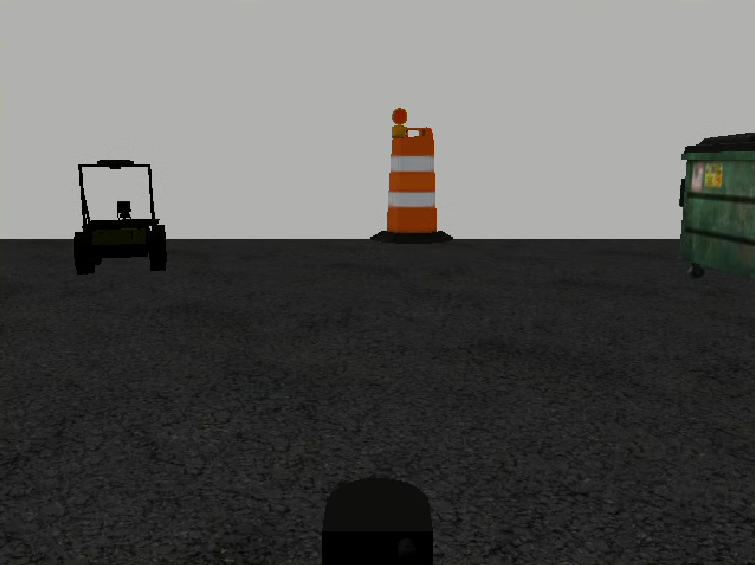husky: (72, 219, 168, 273)
